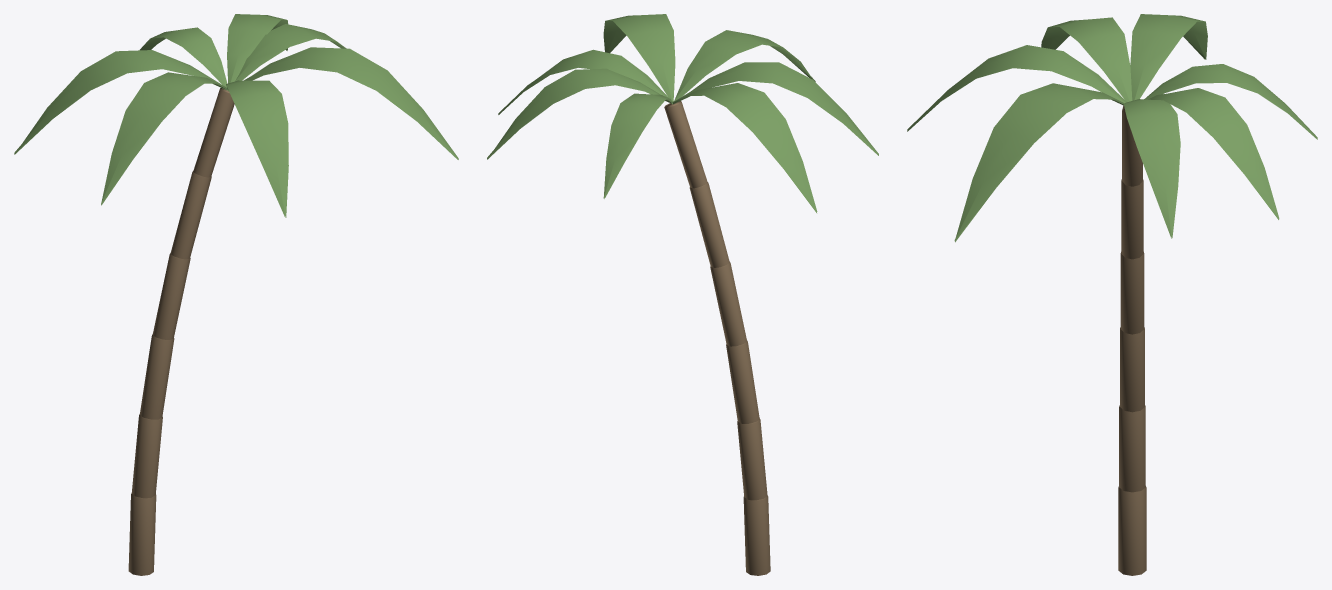
File: palm_tree_variant_03_lod1.glb
3 renders of one model, left to right at view 1: azimuth 30°, elevation 25°; view 2: azimuth 150°, elevation 25°; view 3: azimuth 270°, elevation 25°, orthographic. The views are drawn at different scales.
Parts seen in each view (by area): view 1: static_leaf_oak, static_wood; view 2: static_leaf_oak, static_wood; view 3: static_leaf_oak, static_wood.
Boxes of the visible parts, bbox=[...] form: static_leaf_oak: bbox=[14, 14, 458, 217]; static_wood: bbox=[128, 88, 234, 575]; static_leaf_oak: bbox=[487, 14, 878, 212]; static_wood: bbox=[664, 101, 770, 575]; static_leaf_oak: bbox=[907, 14, 1317, 242]; static_wood: bbox=[1118, 105, 1146, 575].
Size of the model in its own units: 5.54 by 7.75 by 5.18.
